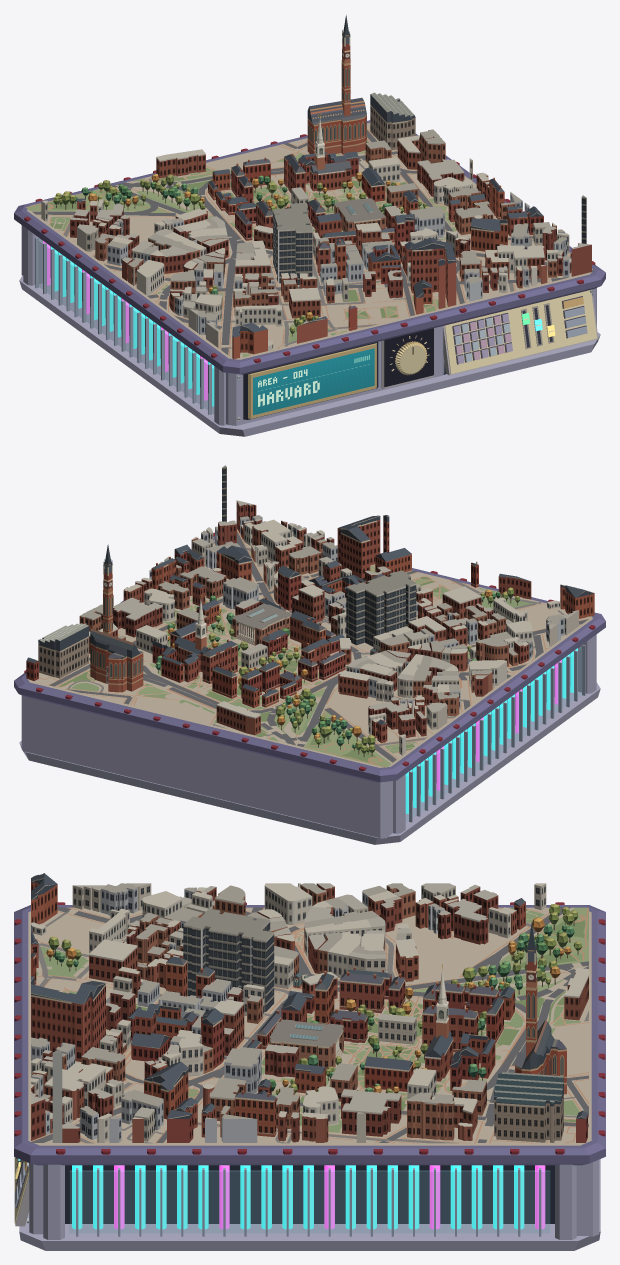
Rendered from segment-place-harsq.glb.
The picture shows the model from 3 angles, top to bottom: view 1: azimuth 30°, elevation 25°; view 2: azimuth 150°, elevation 25°; view 3: azimuth 270°, elevation 25°; orthographic projection. The views are drawn at different scales.
Visible parts, largest first — view 1: Masonry, foliage and streets, Masonry street elevations, Brushed chamfers, Powder-coated alloy, Fluted instrument glass, LCD_Screen, Ice discharge tubes, Enamel and window panes, Satin curtain wall, Rose discharge tubes, Rotary_Dial; view 2: Masonry, foliage and streets, Masonry street elevations, Powder-coated alloy, Brushed chamfers, Fluted instrument glass, Ice discharge tubes, Satin curtain wall, Rose discharge tubes; view 3: Masonry, foliage and streets, Masonry street elevations, Powder-coated alloy, Fluted instrument glass, Brushed chamfers, Ice discharge tubes, Satin curtain wall, Rose discharge tubes.
Boxes of the visible parts, <box> form: Masonry, foliage and streets: <box>25,15,593,359</box>; Masonry street elevations: <box>45,106,578,354</box>; Brushed chamfers: <box>14,120,605,425</box>; Powder-coated alloy: <box>19,134,600,436</box>; Fluted instrument glass: <box>39,239,213,414</box>; LCD_Screen: <box>253,348,374,415</box>; Ice discharge tubes: <box>51,246,214,406</box>; Enamel and window panes: <box>453,297,587,364</box>; Satin curtain wall: <box>273,197,586,284</box>; Rose discharge tubes: <box>43,241,207,400</box>; Rotary_Dial: <box>395,341,427,375</box>; Masonry, foliage and streets: <box>26,465,594,767</box>; Masonry street elevations: <box>26,501,593,755</box>; Powder-coated alloy: <box>19,532,600,844</box>; Brushed chamfers: <box>14,536,605,833</box>; Fluted instrument glass: <box>406,646,581,822</box>; Ice discharge tubes: <box>405,648,577,813</box>; Satin curtain wall: <box>222,467,416,646</box>; Rose discharge tubes: <box>436,660,561,790</box>; Masonry, foliage and streets: <box>28,873,591,1145</box>; Masonry street elevations: <box>31,882,588,1142</box>; Powder-coated alloy: <box>14,902,605,1250</box>; Fluted instrument glass: <box>70,1170,549,1232</box>; Brushed chamfers: <box>14,905,605,1239</box>; Ice discharge tubes: <box>72,1165,524,1229</box>; Satin curtain wall: <box>183,912,274,1011</box>; Rose discharge tubes: <box>114,1165,545,1229</box>.
Bounding box in the file's own units: 0.9 × 0.486 × 0.9.
Materials: 11 (3 with a texture image).
